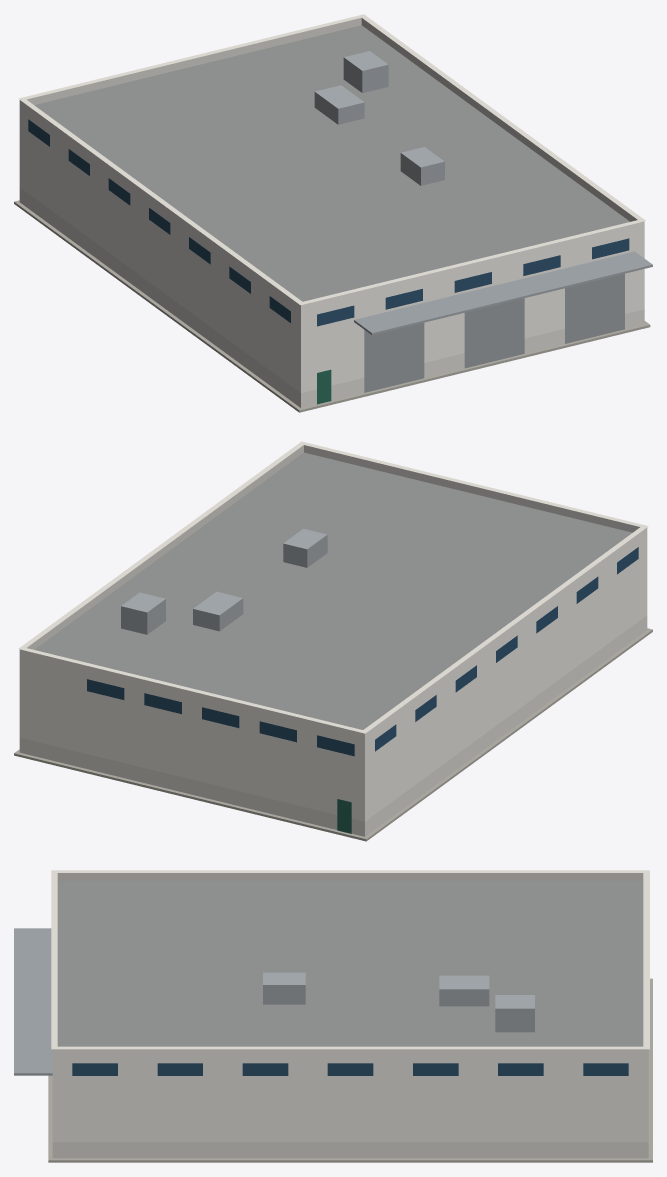
File: hall_24x34_lod1.glb
The picture shows the model from 3 angles, top to bottom: view 1: azimuth 30°, elevation 25°; view 2: azimuth 150°, elevation 25°; view 3: azimuth 270°, elevation 25°; orthographic projection. The views are drawn at different scales.
Parts seen in each view (by area): view 1: block; view 2: block; view 3: block.
Boxes of the visible parts, box(x1,y1,x2,y2) form: block: box(14, 14, 652, 412); block: box(14, 441, 652, 841); block: box(14, 870, 652, 1162).
Bounding box in the file's own units: 24.5 × 8.03 × 36.45.
